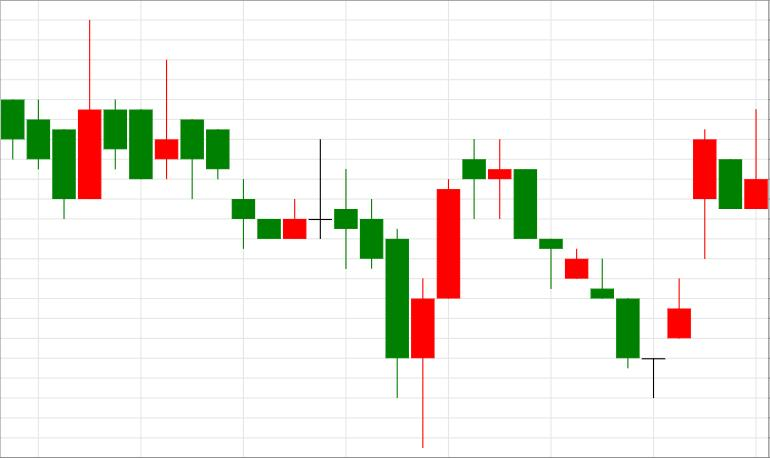morning_star_rise: (463, 138, 691, 398)
